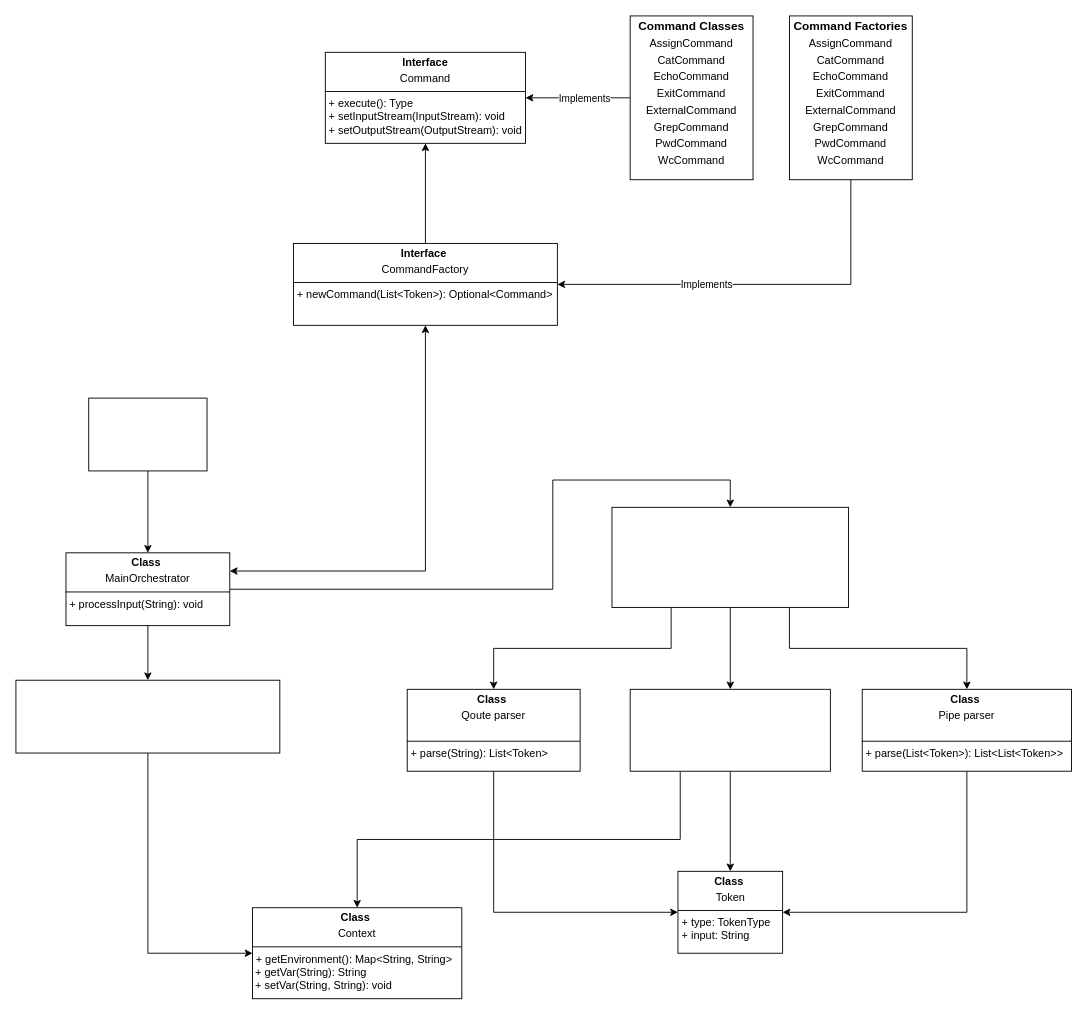
The diagram is 1087 pixels wide and 1015 high, and some of its shapes have lost their labels. The shapes that lost their labels are listed below. From the top down, each one's centre as x and y in pixels, then its label:
(147,434): Class Main + main(): void
(730,556): Class ParserO rchestrator + parse(String): List<List<Token>>
(147,716): Class Executor + pipeAndExecuteCommands(List<Command>): void
(729,729): Class Substitutor + substitute(List<Token>): List<Token>
